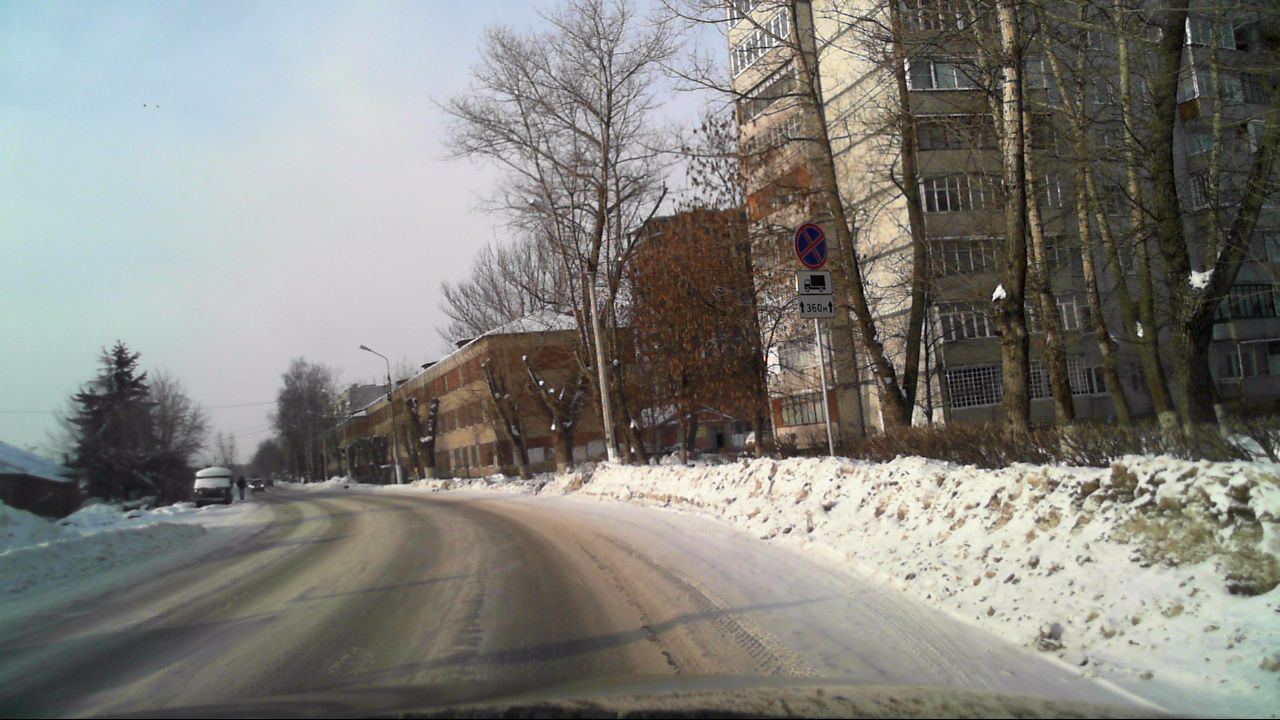No Parking: (793, 223, 826, 269)
